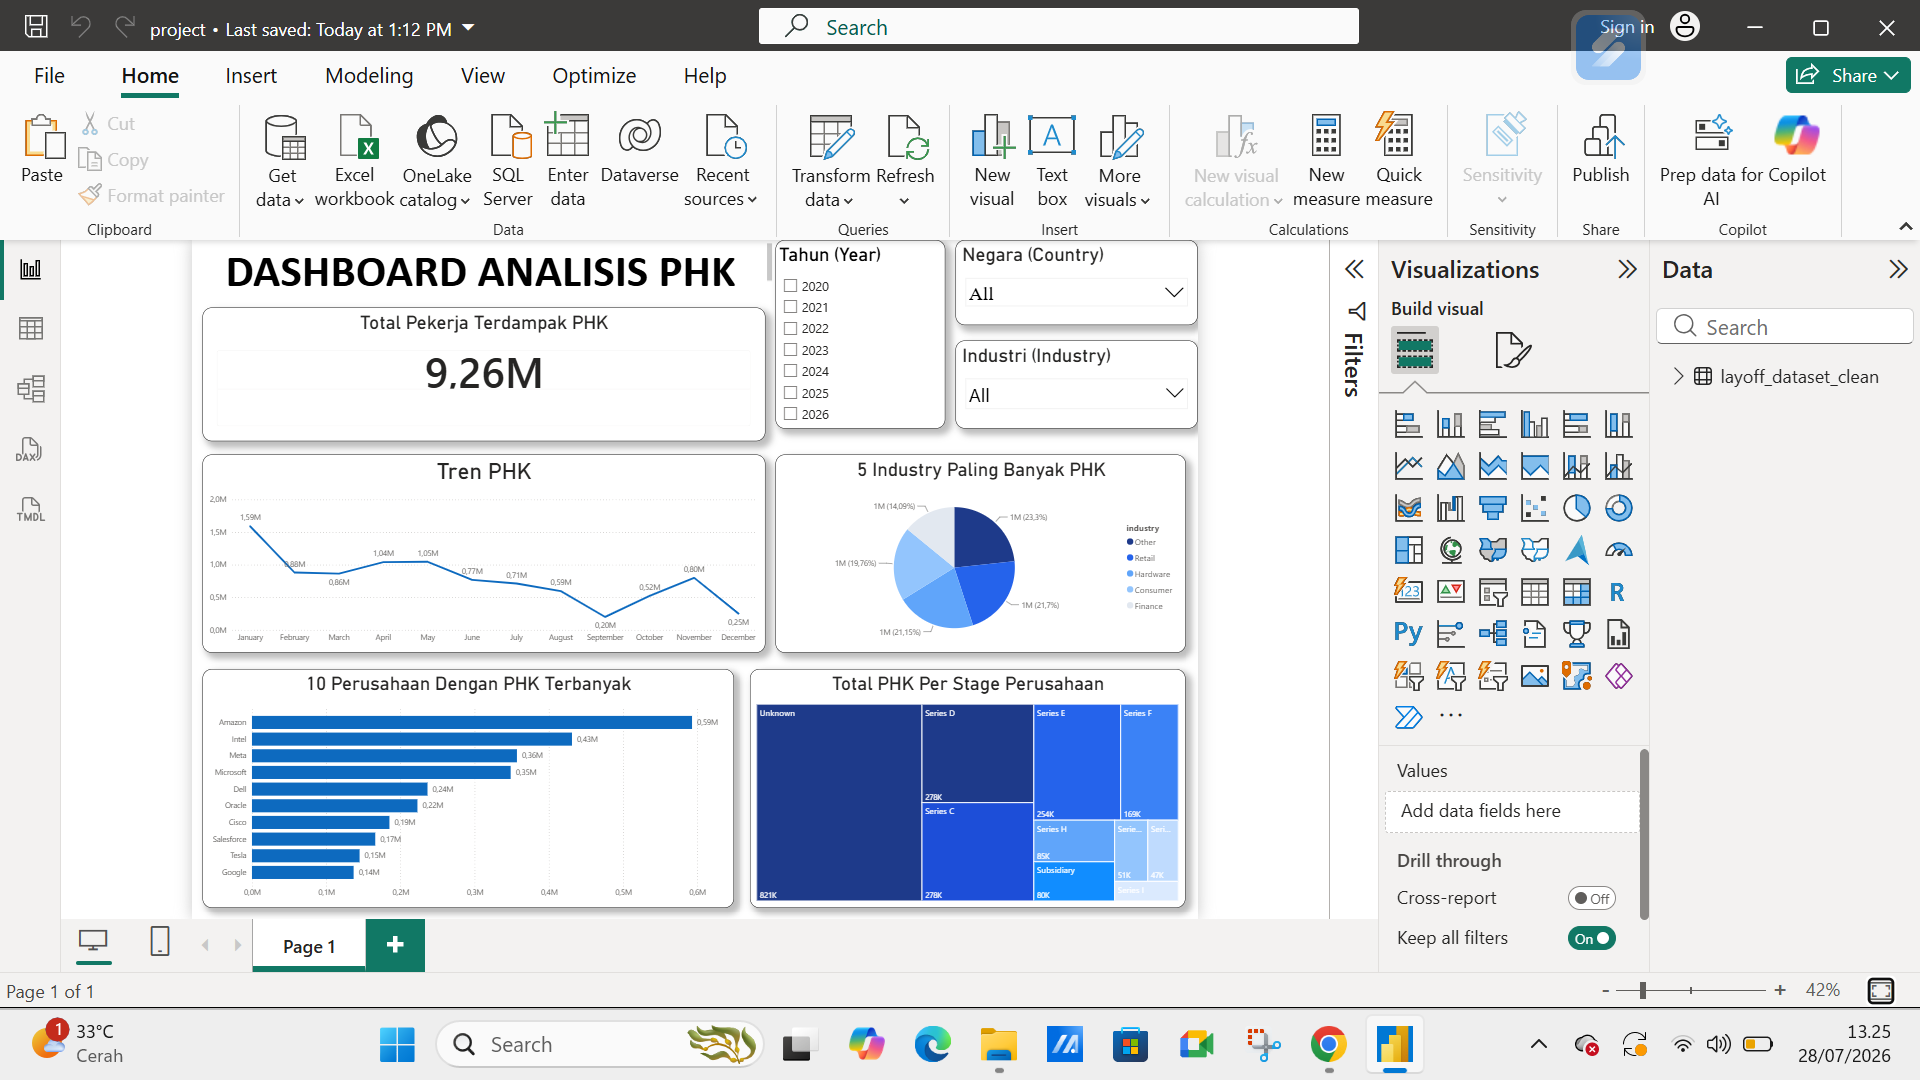

The page's visual inventory and layout, read from the dashboard file:
{"tool":"powerbi","page":{"name":"Page 1","canvas":[1600,1080],"ordinal":0},"visuals":[{"type":"cardVisual","title":"Total Pekerja Terdampak PHK","fields":{"Data":["Sum(layoff_dataset_clean.total_laid_off)"]},"box":[17.5,107.5,895,212.5],"z":0},{"type":"clusteredBarChart","title":"10 Perusahaan Dengan PHK Terbanyak","fields":{"Category":["layoff_dataset_clean.company"],"Y":["Sum(layoff_dataset_clean.total_laid_off)"]},"box":[17.5,682.5,845,380],"z":1000},{"type":"lineChart","title":"Tren PHK","fields":{"Y":["Sum(layoff_dataset_clean.total_laid_off)"],"Category":["layoff_dataset_clean.date.Variation.Date Hierarchy.Month"]},"box":[17.5,340,895,315],"z":2000},{"type":"pieChart","title":"5 Industry Paling Banyak PHK","fields":{"Category":["layoff_dataset_clean.industry"],"Y":["Sum(layoff_dataset_clean.total_laid_off)"]},"box":[927.5,340,652.5,315],"z":3000},{"type":"treemap","title":"Total PHK Per Stage Perusahaan","fields":{"Group":["layoff_dataset_clean.stage"],"Values":["Sum(layoff_dataset_clean.total_laid_off)"]},"box":[887.5,682.5,692.5,380],"z":4000},{"type":"slicer","title":"Negara (Country)","fields":{"Values":["layoff_dataset_clean.country"]},"box":[1215,0,385,135],"z":5000},{"type":"slicer","title":"Industri (Industry)","fields":{"Values":["layoff_dataset_clean.industry"]},"box":[1215,160,385,140],"z":6000},{"type":"textbox","box":[0,0,927.5,82.5],"z":8000},{"type":"slicer","title":"Tahun (Year)","fields":{"Values":["layoff_dataset_clean.date.Variation.Date Hierarchy.Year"]},"box":[927.5,0,270,300],"z":9000}]}

Visuals, with their boxes on the page's 1600x1080 design canvas (x1, y1, x2, y2). These are canvas units, not pixel positions in the 1920x1080 screenshot, which may show the page scaled, cropped or inside an application window:
"Total Pekerja Terdampak PHK" cardVisual: locate(18, 108, 912, 320)
"10 Perusahaan Dengan PHK Terbanyak" clusteredBarChart: locate(18, 682, 862, 1062)
"Tren PHK" lineChart: locate(18, 340, 912, 655)
"5 Industry Paling Banyak PHK" pieChart: locate(928, 340, 1580, 655)
"Total PHK Per Stage Perusahaan" treemap: locate(888, 682, 1580, 1062)
"Negara (Country)" slicer: locate(1215, 0, 1600, 135)
"Industri (Industry)" slicer: locate(1215, 160, 1600, 300)
textbox: locate(0, 0, 928, 82)
"Tahun (Year)" slicer: locate(928, 0, 1198, 300)
